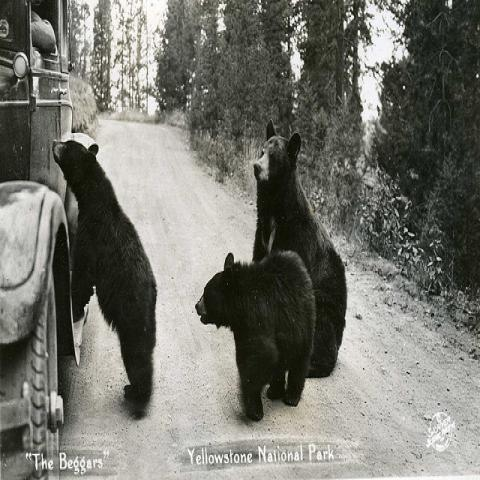truck: (0, 0, 98, 474)
